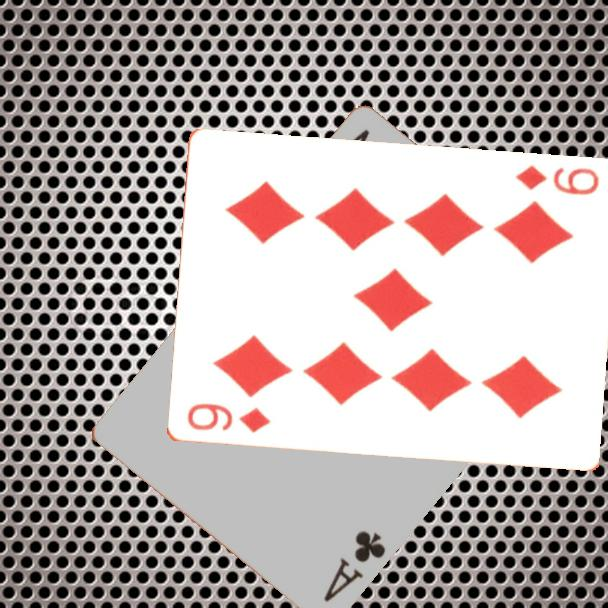c01: (320, 527, 389, 606)
d09: (511, 162, 602, 199), (183, 400, 272, 436)
